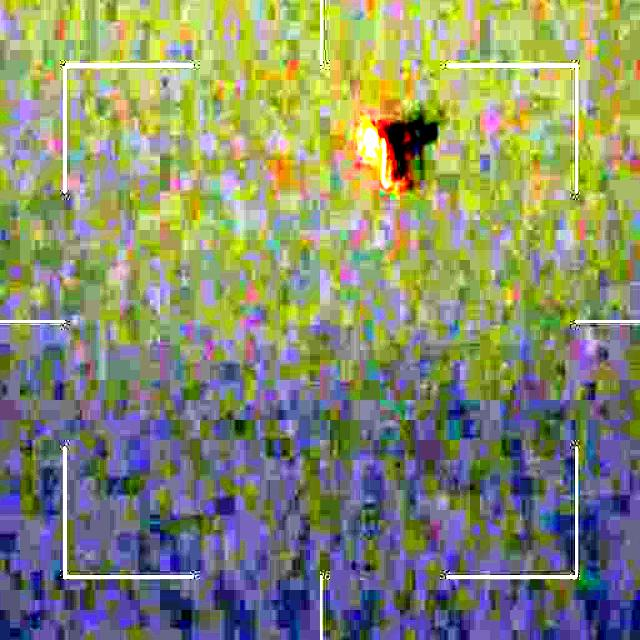bird: (350, 105, 446, 195)
